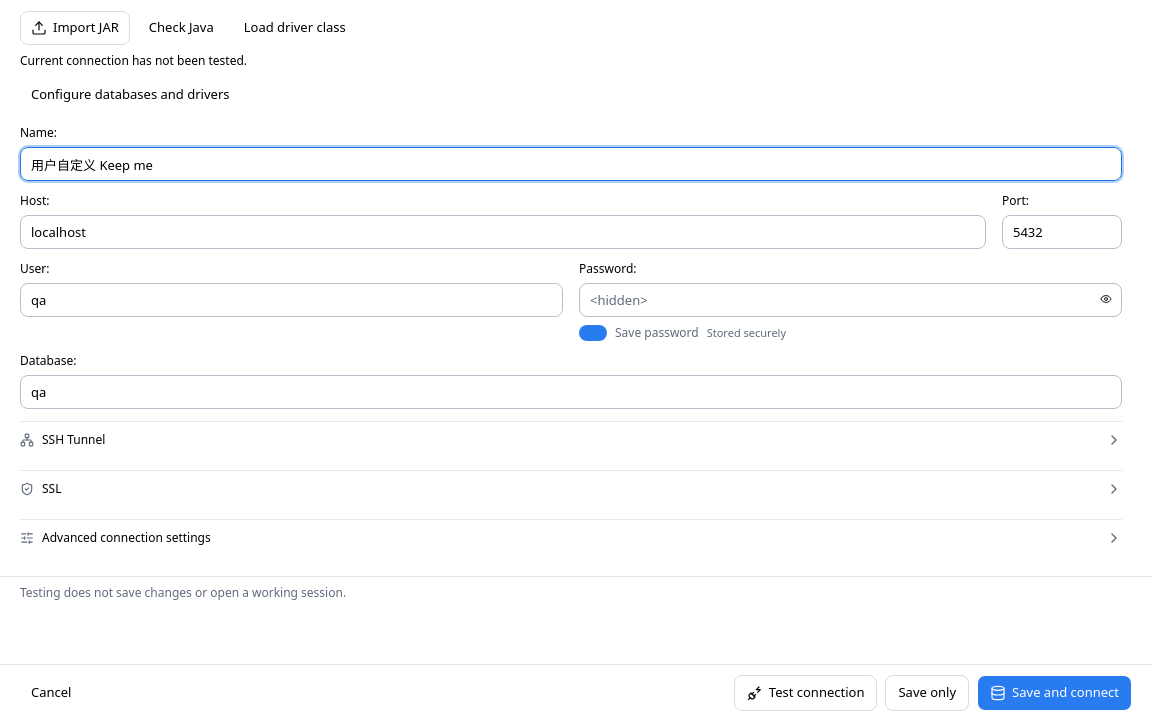
Test case: invalidates a completed result when host changes
(page scrolled)
Click the button "Test connection".
click(806, 692)  # box top-left (734, 674), bottom-right (878, 710)
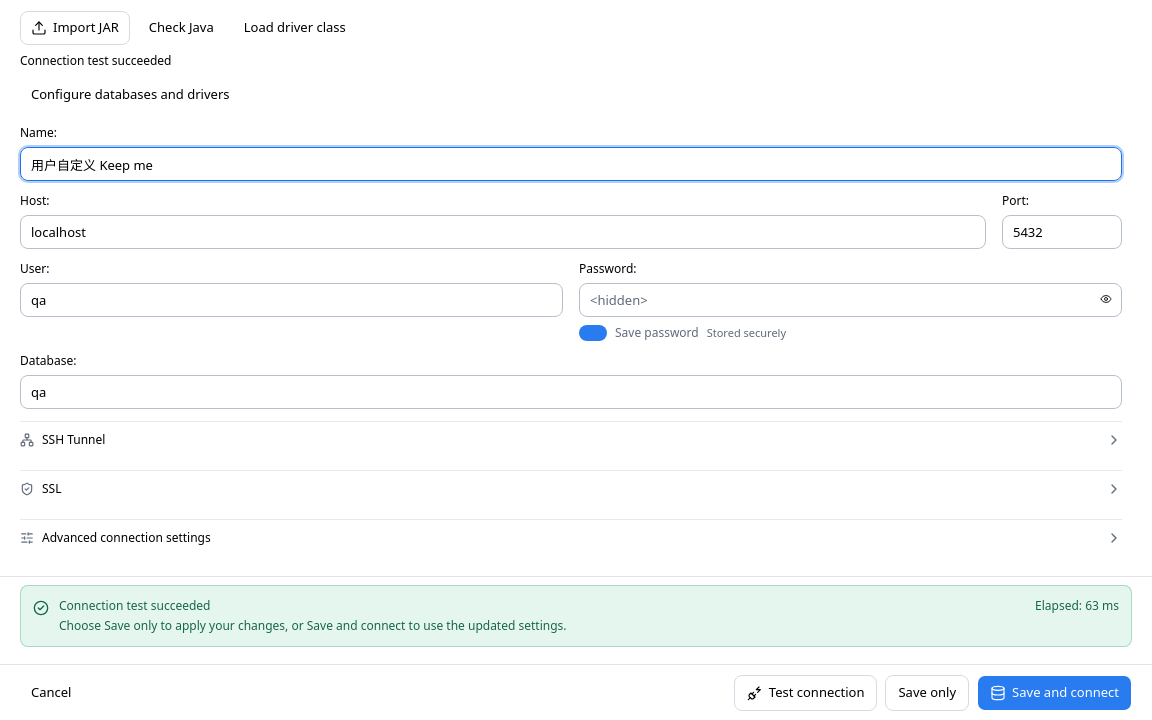
Replace the text in the field labelled "Host:" with "other.invalid" at (503, 232), box top-left (20, 215), bottom-right (986, 249)
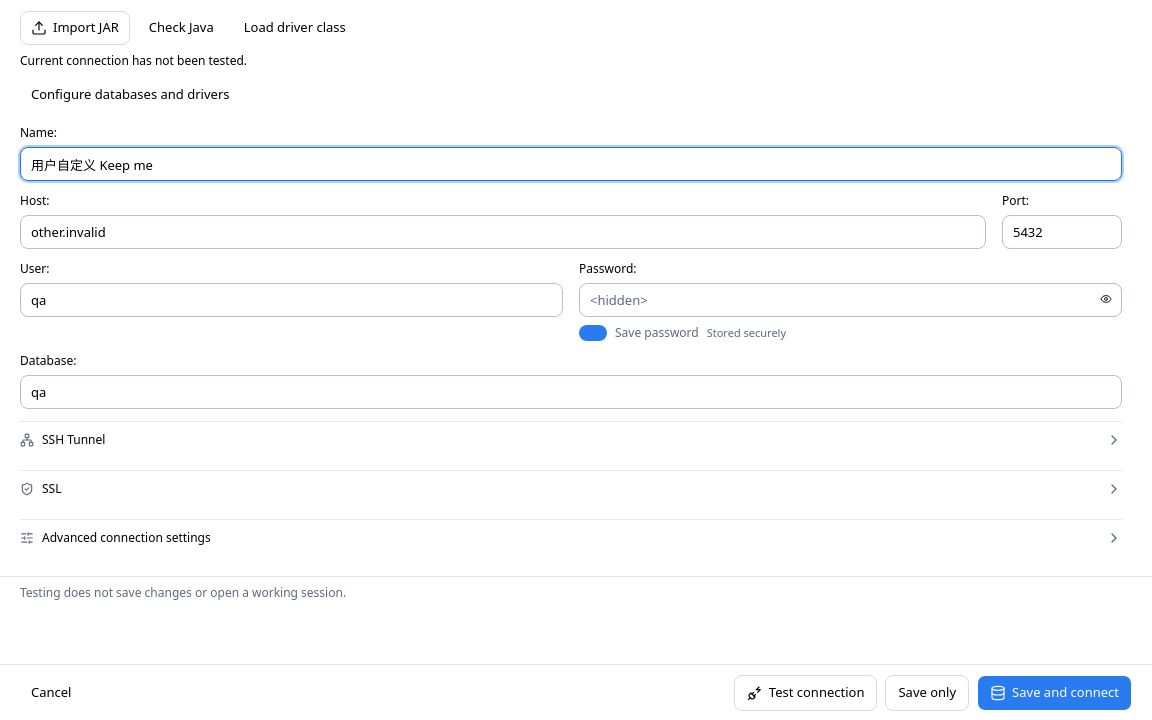
Now the text "Connection test succeeded" is gone
Now the text "Current connection has not been tested." is shown, box top-left (20, 52), bottom-right (247, 69)
